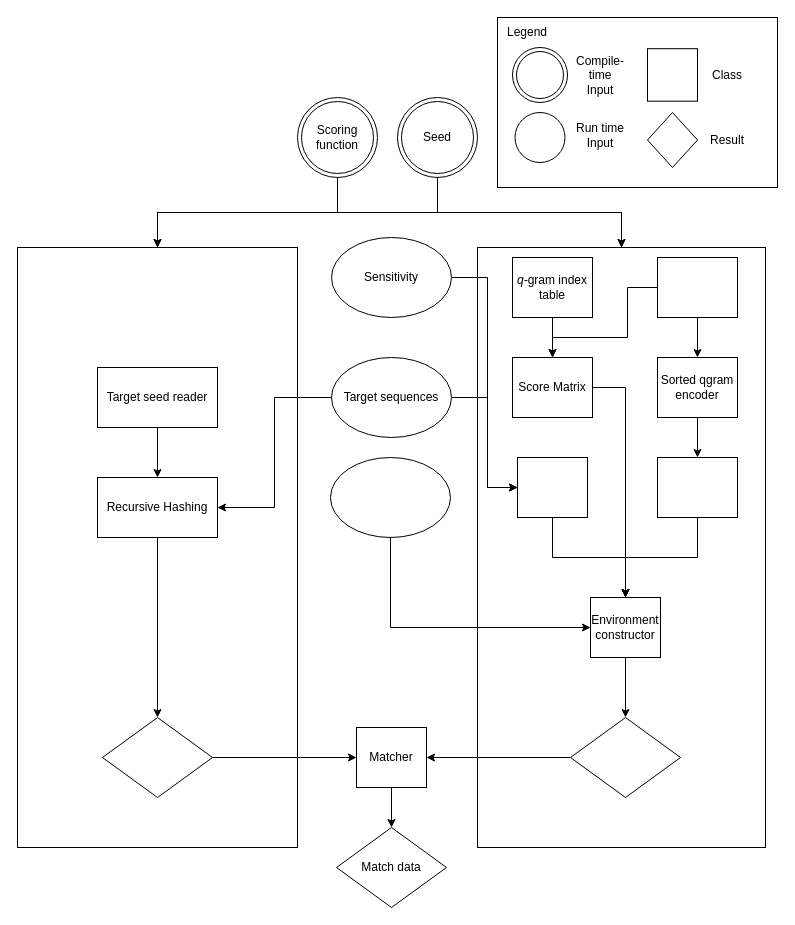
Some shapes in this 795 by 925 pixel diagram are drawn without their labels. The shapes that lost their labels are listed below. From the top down, each one's centre as x and y in pixels, then its label:
the point at 697,287: Sorted q- gram index table
the point at 390,497: Query sequences
the point at 552,487: Threshold estimator
the point at 697,487: Query seed reader
the point at 157,757: Target hash data
the point at 625,757: Query hash data
